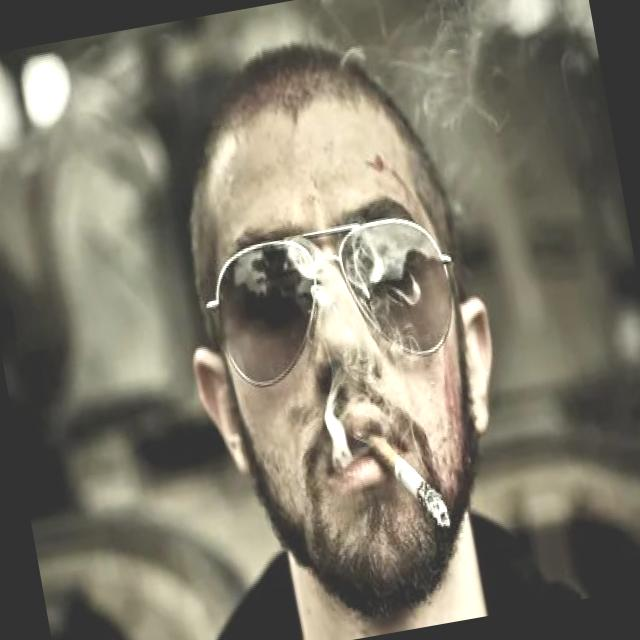smoke: (362, 410, 459, 542)
